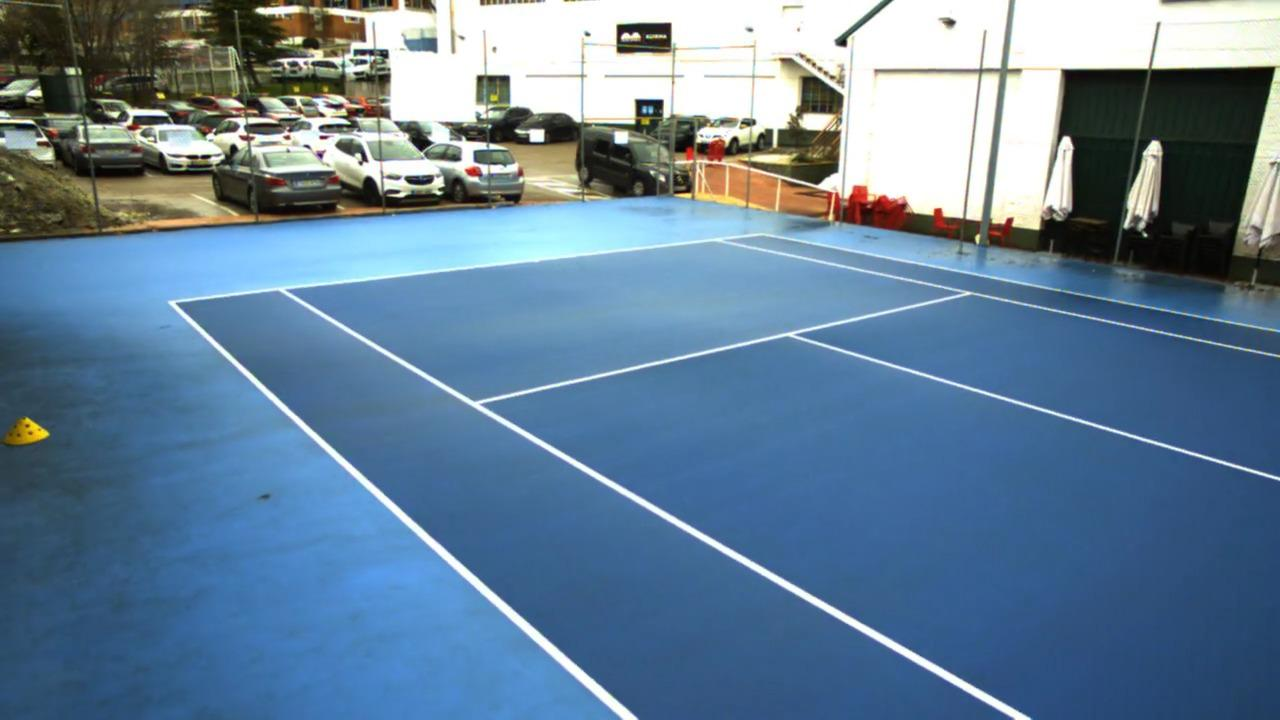cancha_tenis: (280, 241, 1280, 720)
point_f1: (272, 280, 296, 300)
point_f2: (709, 230, 729, 250)
point_fc1: (527, 253, 549, 270)
point_i1: (460, 389, 493, 417)
point_i2: (950, 281, 981, 303)
point_ic1: (778, 319, 806, 347)
